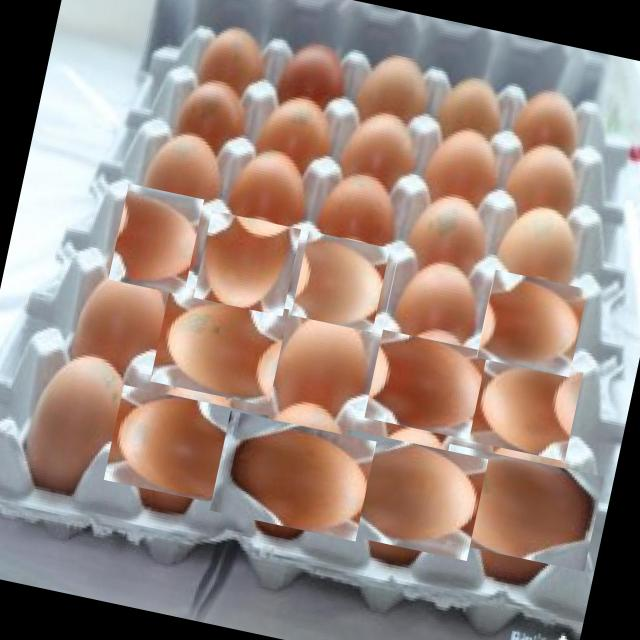eggs: (440, 432, 592, 584), (10, 342, 148, 508), (218, 402, 366, 550), (334, 422, 481, 568), (112, 374, 258, 520), (156, 278, 290, 413), (69, 254, 186, 384), (268, 300, 384, 430), (368, 324, 490, 446), (470, 350, 582, 462), (477, 268, 587, 378), (192, 210, 301, 316), (103, 187, 207, 291), (382, 251, 493, 346), (290, 232, 390, 332)
